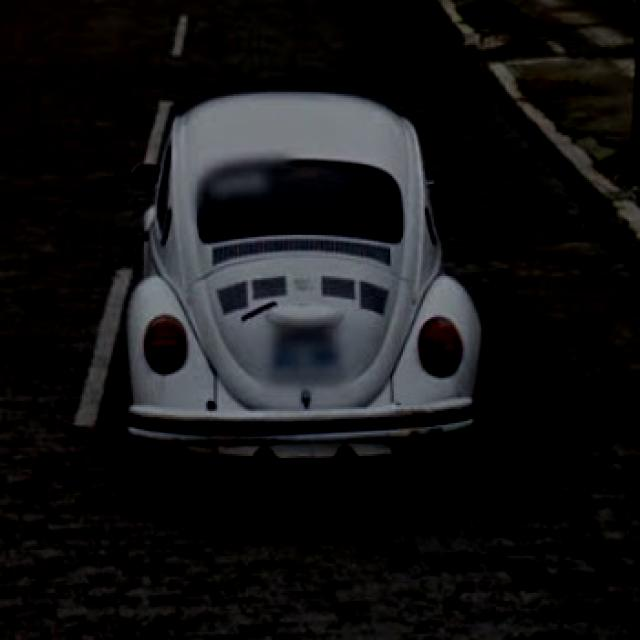car: (122, 86, 482, 480)
